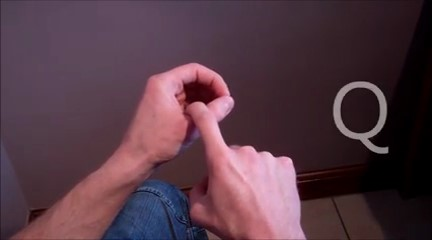Q: (136, 57, 304, 240)
